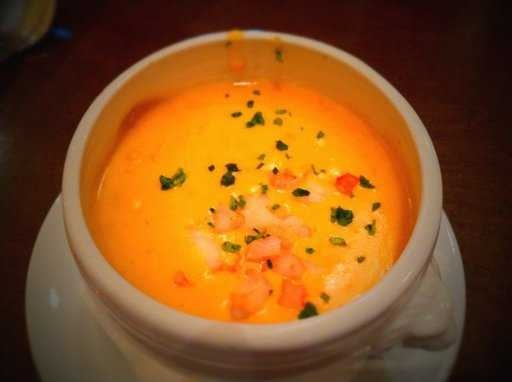soup: (68, 66, 409, 326)
